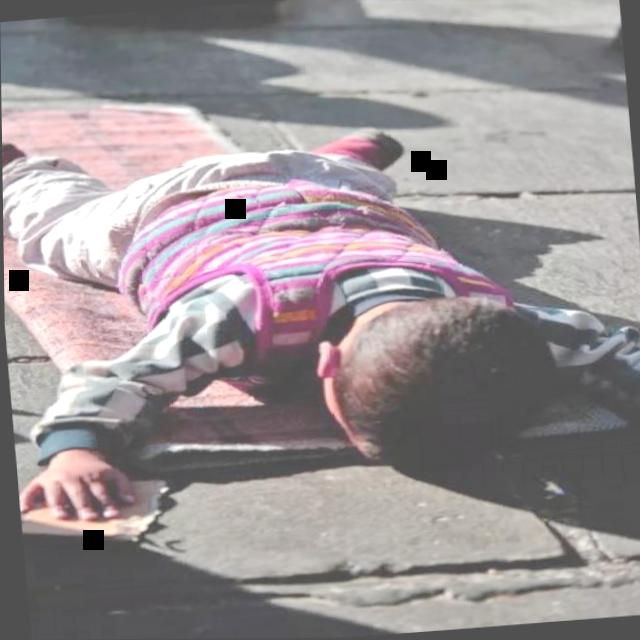Fall-Detected: (1, 63, 640, 575)
